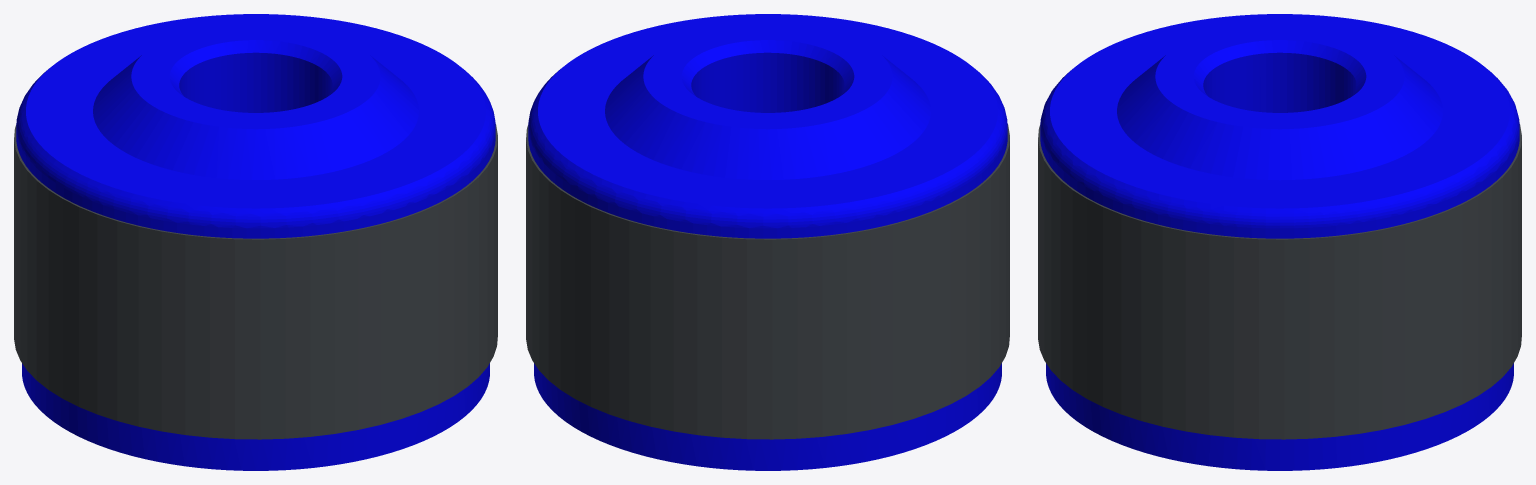
File: rou_25mm.dae
3 renders of one model, left to right at view 1: azimuth 30°, elevation 25°; view 2: azimuth 150°, elevation 25°; view 3: azimuth 270°, elevation 25°, orthographic.
Parts seen in each view (by area): view 1: Roue 25 mm, Pneu 25mm; view 2: Roue 25 mm, Pneu 25mm; view 3: Roue 25 mm, Pneu 25mm.
Part boxes in pixels (x1,y1,x2,y2): Roue 25 mm: (16, 14, 495, 470); Pneu 25mm: (14, 124, 497, 439); Roue 25 mm: (528, 14, 1007, 470); Pneu 25mm: (526, 124, 1009, 439); Roue 25 mm: (1040, 14, 1519, 470); Pneu 25mm: (1038, 124, 1521, 439).
Bounding box in the file's own units: 0.0252 × 0.0252 × 0.017.
